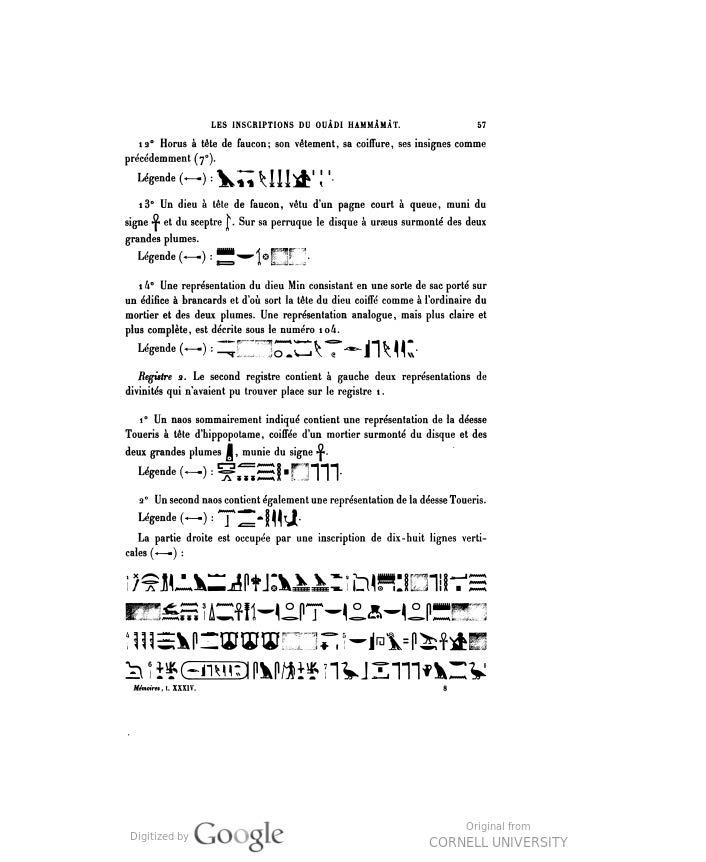circle: (180, 658, 255, 684)
